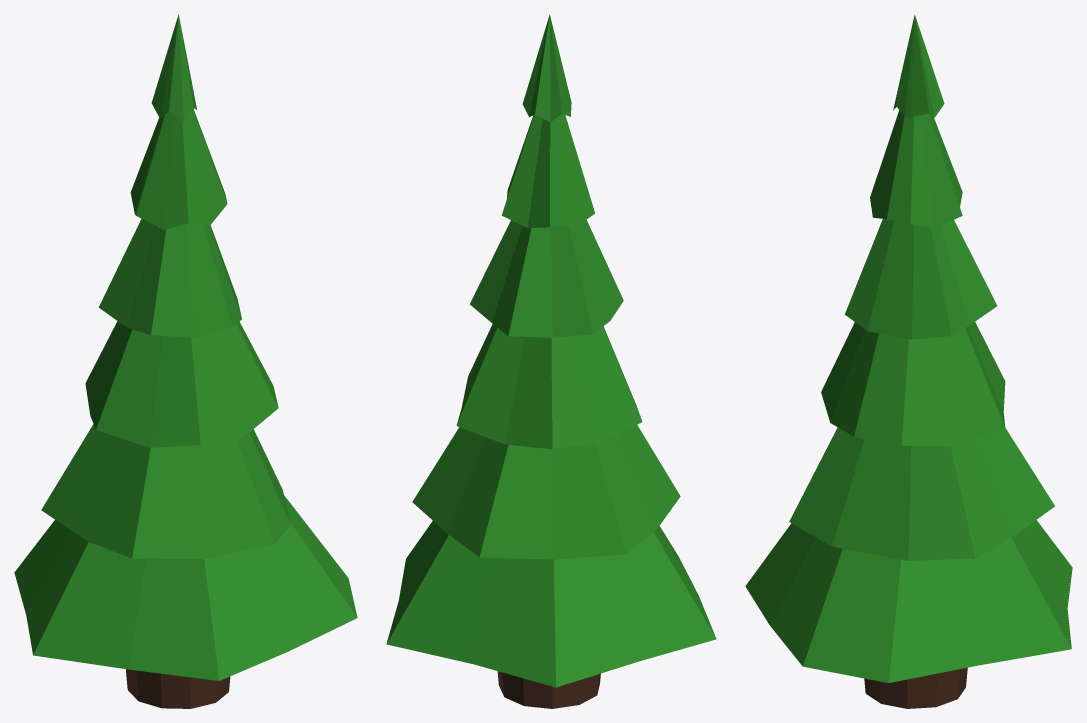
The model's file is LightPineSmall.fbx.
The picture shows the model from 3 angles, left to right: view 1: azimuth 30°, elevation 25°; view 2: azimuth 150°, elevation 25°; view 3: azimuth 270°, elevation 25°; orthographic projection.
Visible parts, largest first — view 1: Cylinder.001; view 2: Cylinder.001; view 3: Cylinder.001.
Part boxes in pixels (x1,y1,x2,y2): Cylinder.001: (14, 14, 357, 708); Cylinder.001: (386, 14, 716, 708); Cylinder.001: (745, 14, 1072, 708).
Bounding box in the file's own units: 370 × 760 × 335.
